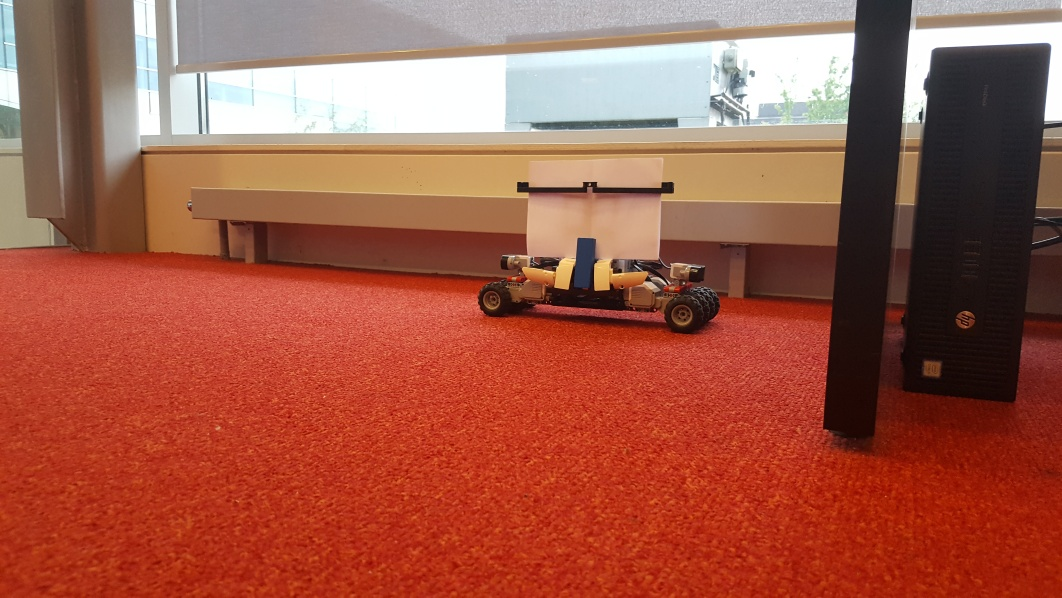car: (477, 157, 721, 332)
